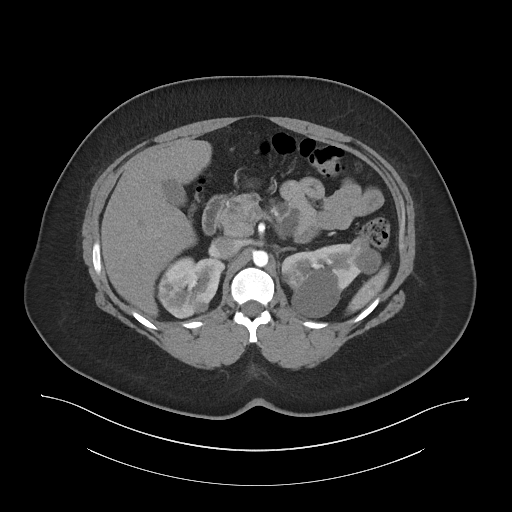Lesion: (346, 230, 375, 261)
